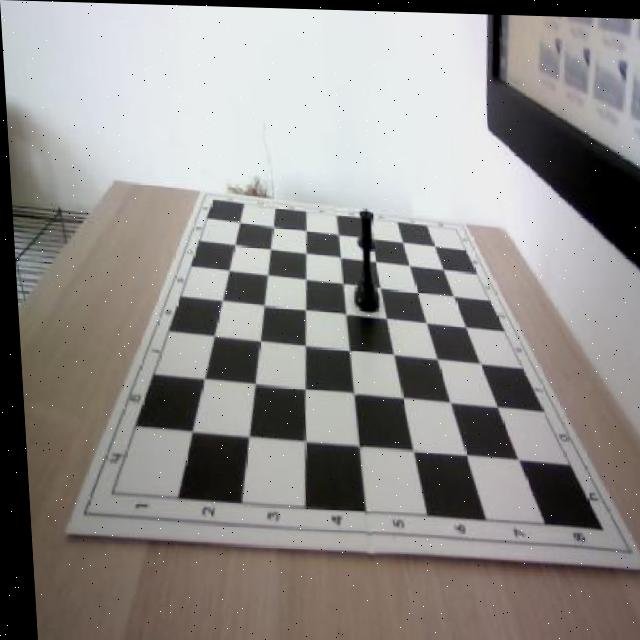black-pawn: (346, 205, 378, 311)
